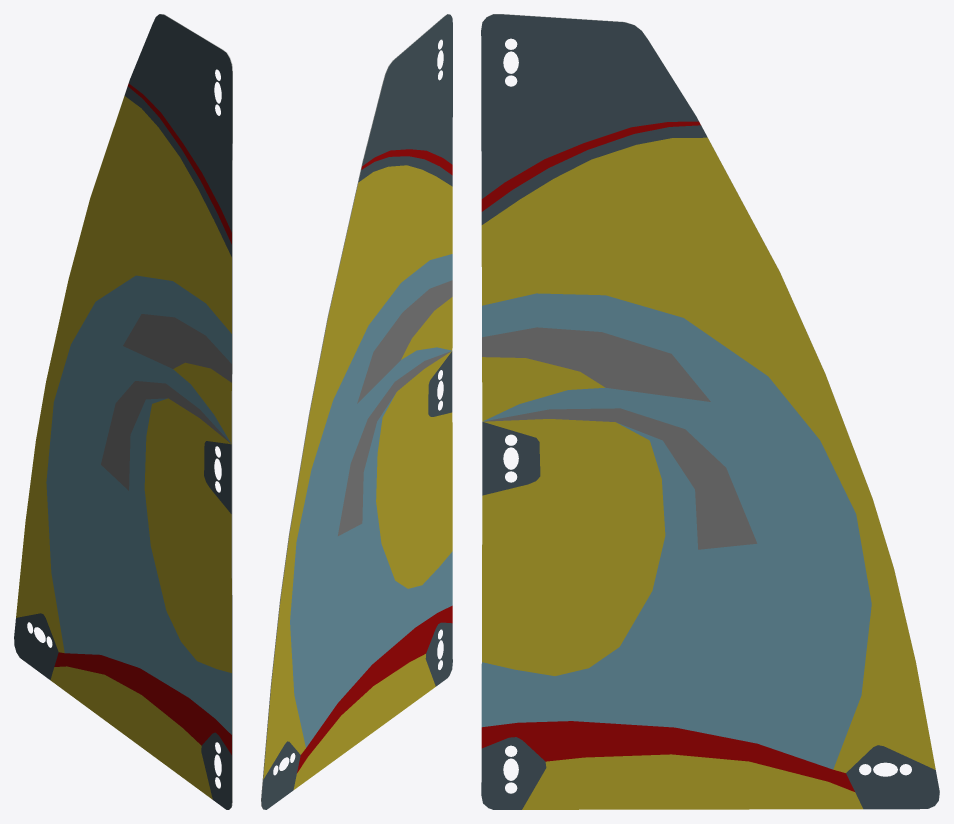
The picture shows the model from 3 angles, left to right: view 1: azimuth 30°, elevation 25°; view 2: azimuth 150°, elevation 25°; view 3: azimuth 270°, elevation 25°; orthographic projection. The views are drawn at different scales.
Parts seen in each view (by area): view 1: world; view 2: world; view 3: world.
Boxes of the visible parts, x1=… form: world: x1=14, y1=14, x2=232, y2=809; world: x1=261, y1=14, x2=452, y2=809; world: x1=481, y1=14, x2=939, y2=809.
Size of the model in its own units: 0.0002 by 0.2251 by 0.1176.
